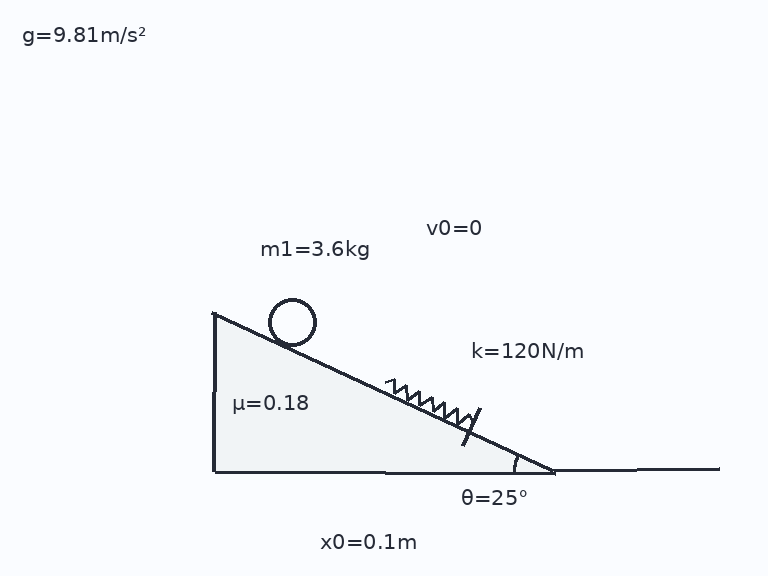ball: (266, 296, 318, 348)
ramp: (212, 311, 556, 473)
spring: (382, 377, 475, 426)
